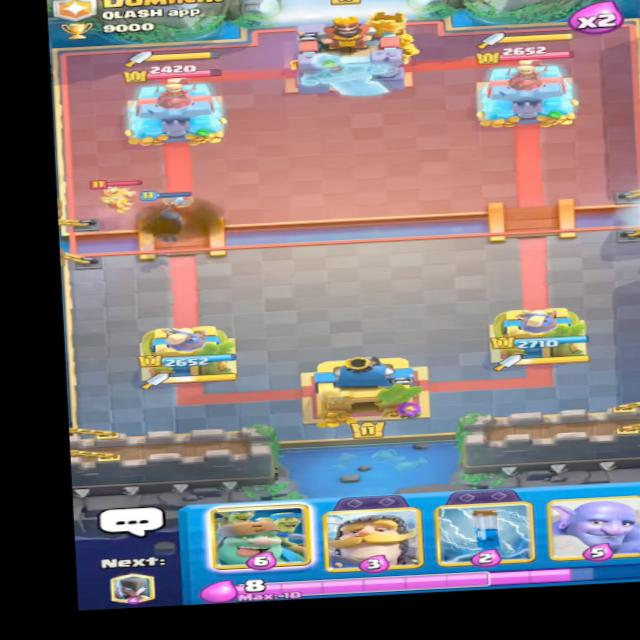Wizard: (89, 173, 152, 215)
